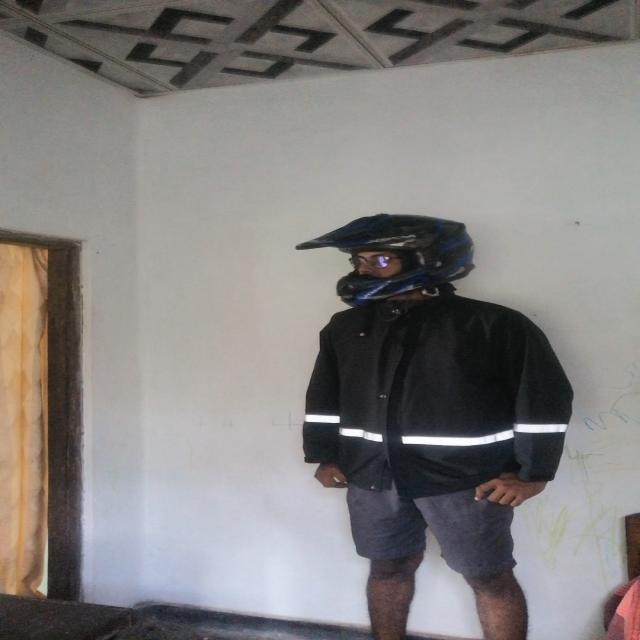Helmet_Wearer: (300, 214, 494, 312)
Jacket_Wearer: (310, 292, 563, 481)
Person: (280, 206, 567, 616)
